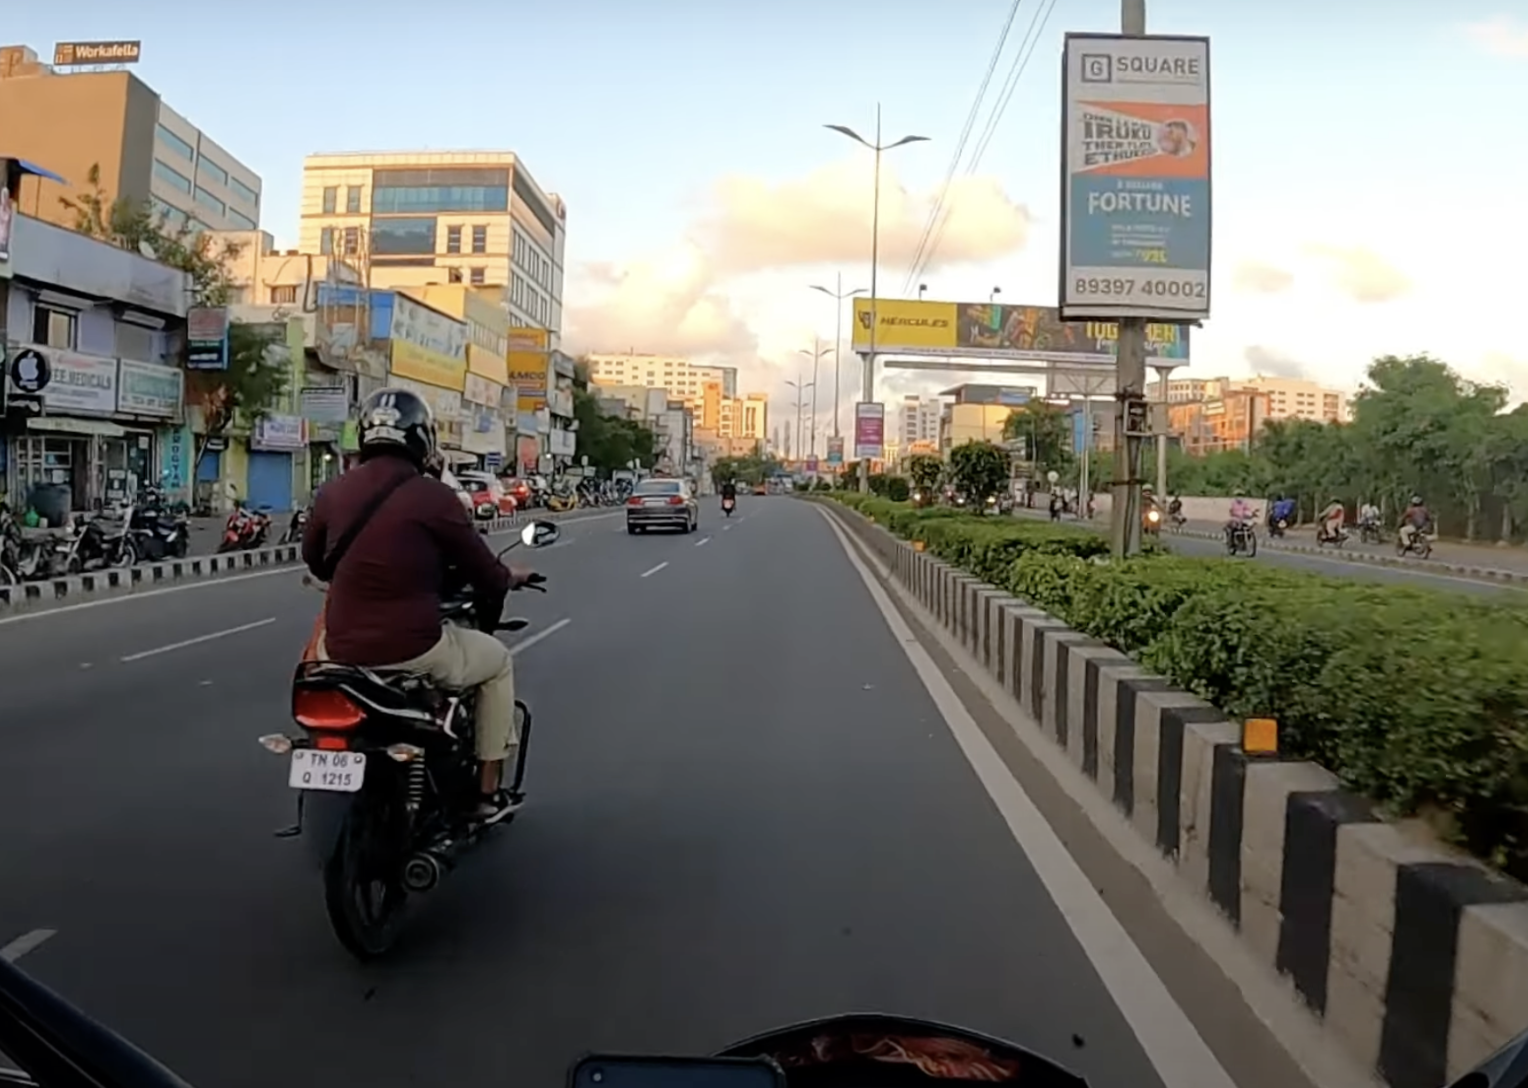motor: (280, 555, 587, 950)
number: (288, 745, 368, 792)
with helmet: (358, 382, 436, 464)
